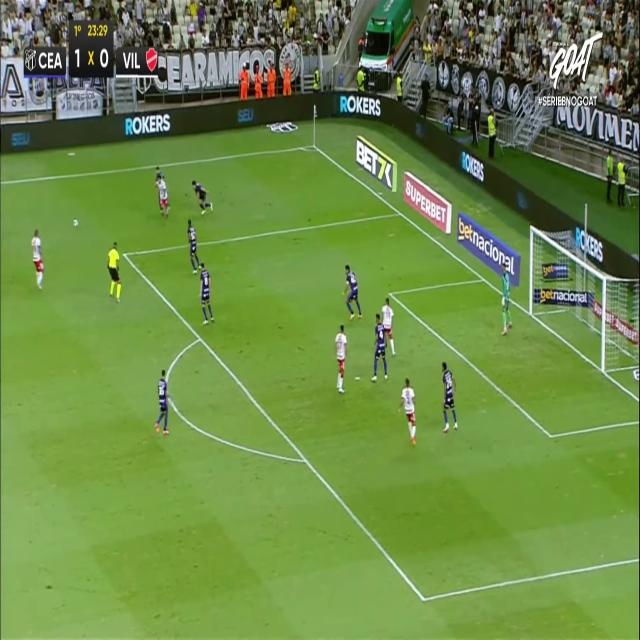ball: (73, 219, 78, 227)
goalkeeper: (501, 263, 513, 334)
player: (371, 311, 388, 381), (399, 377, 416, 444), (442, 361, 458, 432), (342, 264, 362, 319), (155, 367, 169, 434), (381, 294, 395, 360), (200, 262, 214, 323), (192, 178, 214, 215), (335, 323, 347, 390), (187, 218, 201, 273), (31, 228, 43, 289), (156, 173, 170, 220)
referee: (107, 241, 122, 301)
